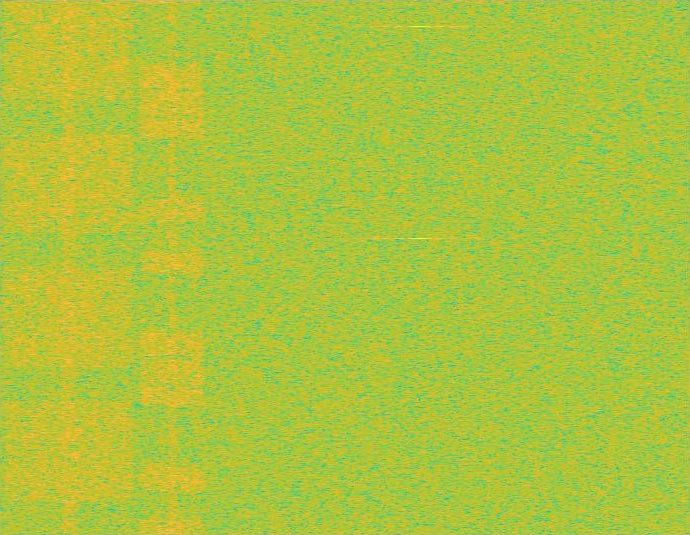5G: (0, 0, 138, 534)
DSSS: (60, 0, 78, 534), (168, 0, 177, 534)
LTE: (138, 0, 207, 534)
Radar: (413, 0, 427, 534)
